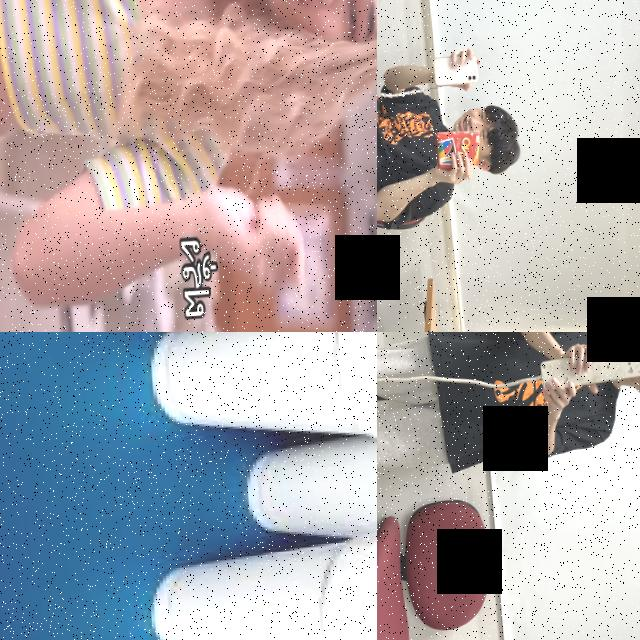cup: (147, 332, 377, 456), (144, 529, 377, 640), (234, 396, 377, 569)
